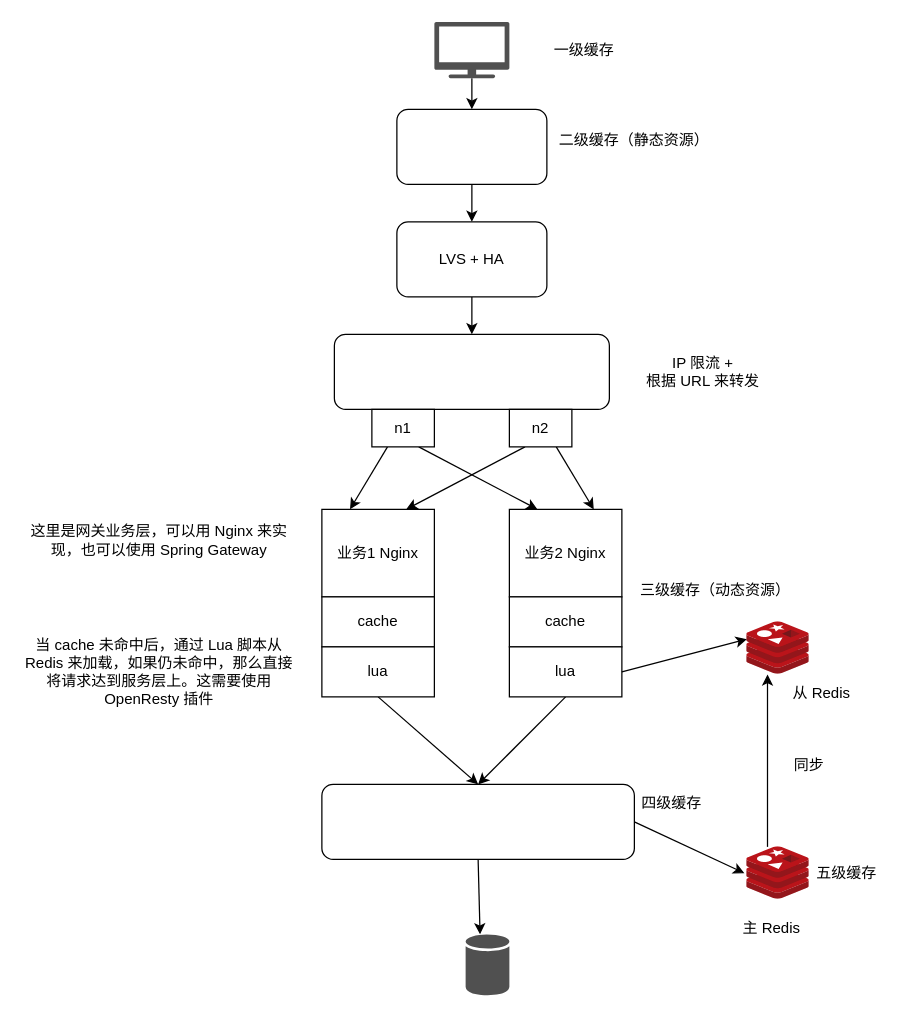
Some shapes in this 905 by 1016 pixel diagram are drawn without their labels. The shapes that lost their labels are listed below. From the top down, each one's centre as x and y in pixels, then its label:
point (471, 146): CDN
point (471, 371): Nginx 转发层
point (477, 821): 服务层（有本地 Cache）
